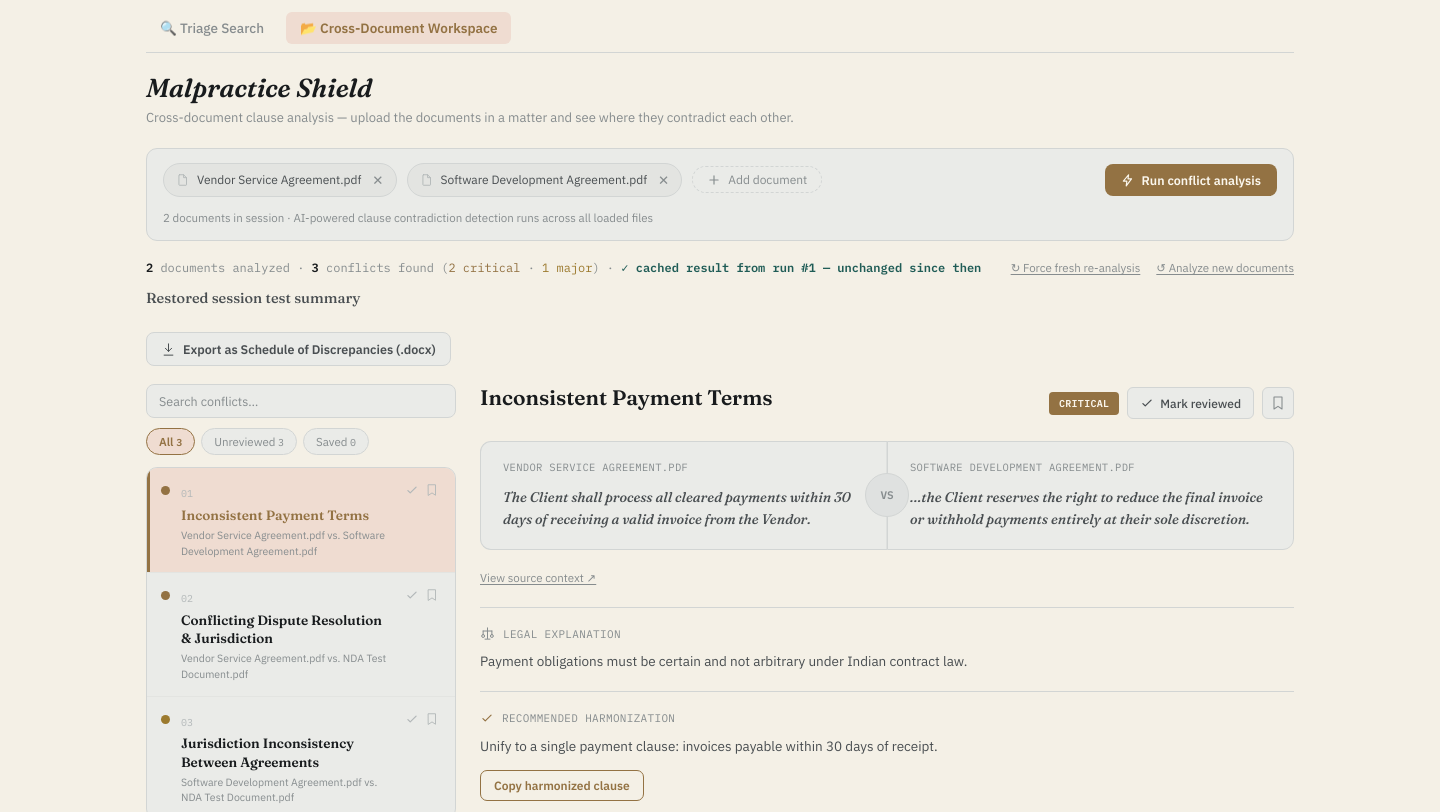
Conflict Engine (Malpractice Shield) › shows warning when attempting to force fresh re-analysis on restored session without live files
Click the button "↻ Force fresh re-analysis".
click(1075, 268)  # box [1011,260,1140,275]
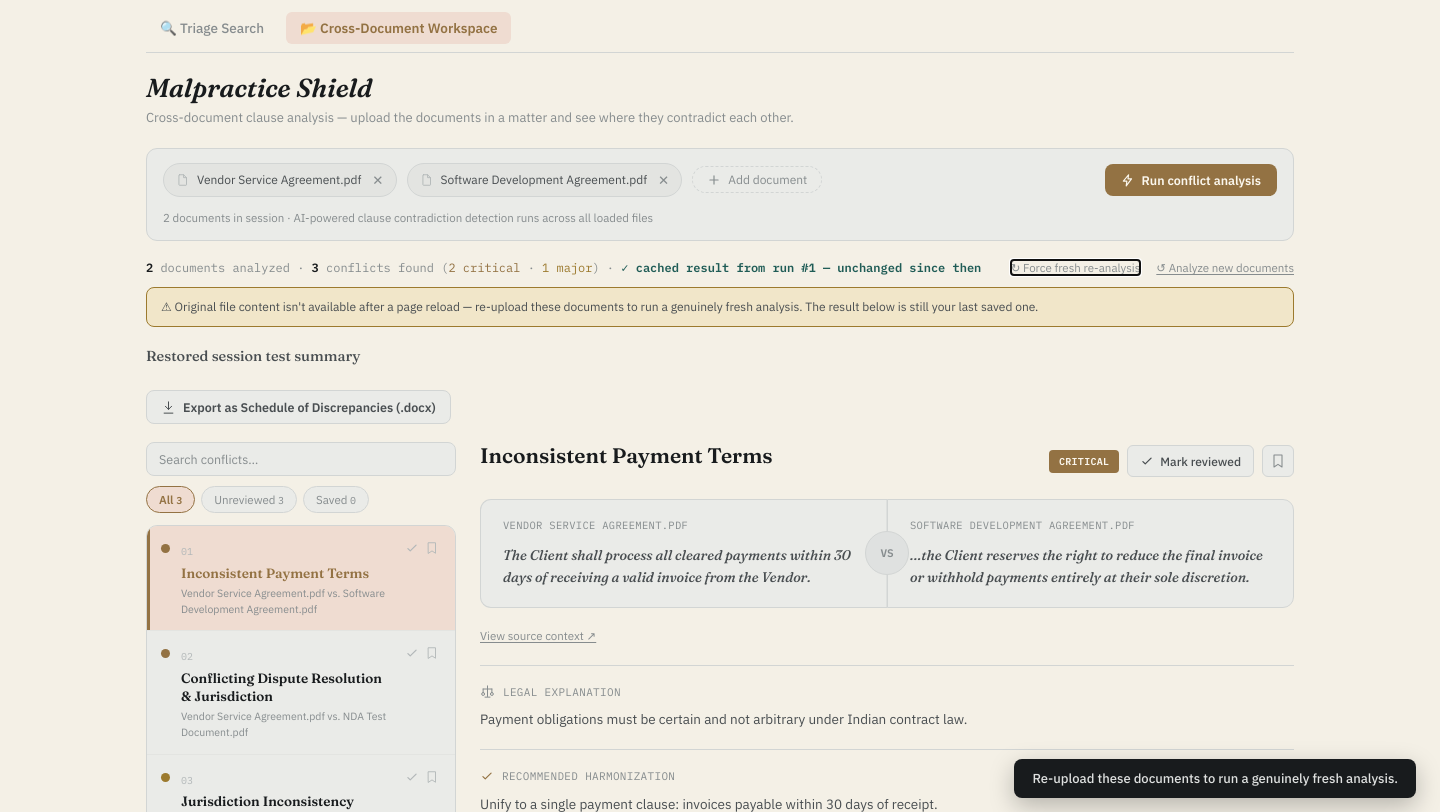
expect the text "Original file content isn't available after a page reload" is shown: met, box [161,299,1038,314]
